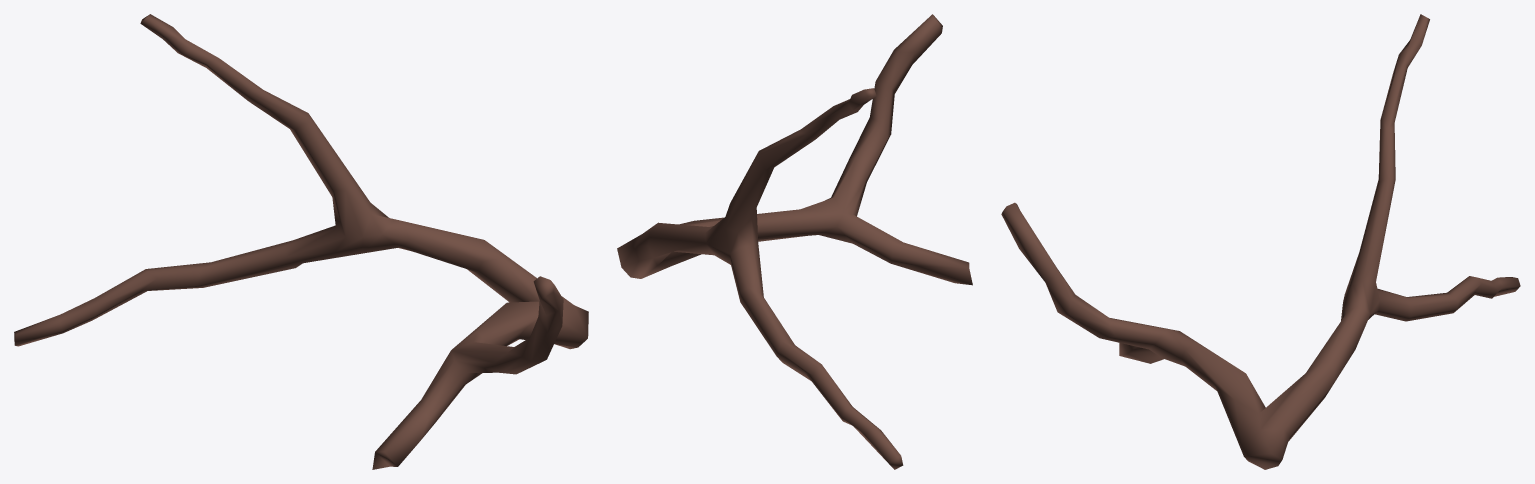
Rendered from deadwood_032.glb.
3 renders of one model, left to right at view 1: azimuth 30°, elevation 25°; view 2: azimuth 150°, elevation 25°; view 3: azimuth 270°, elevation 25°, orthographic. The views are drawn at different scales.
Visible parts, largest first — view 1: deadwood_032; view 2: deadwood_032; view 3: deadwood_032.
Boxes of the visible parts, x1,y1,x2,y2 form: deadwood_032: (14,14,588,469); deadwood_032: (617,14,972,469); deadwood_032: (1001,14,1520,469).
Bounding box in the file's own units: 2.1 × 1.6 × 2.42.
1 material, 1 textured.
